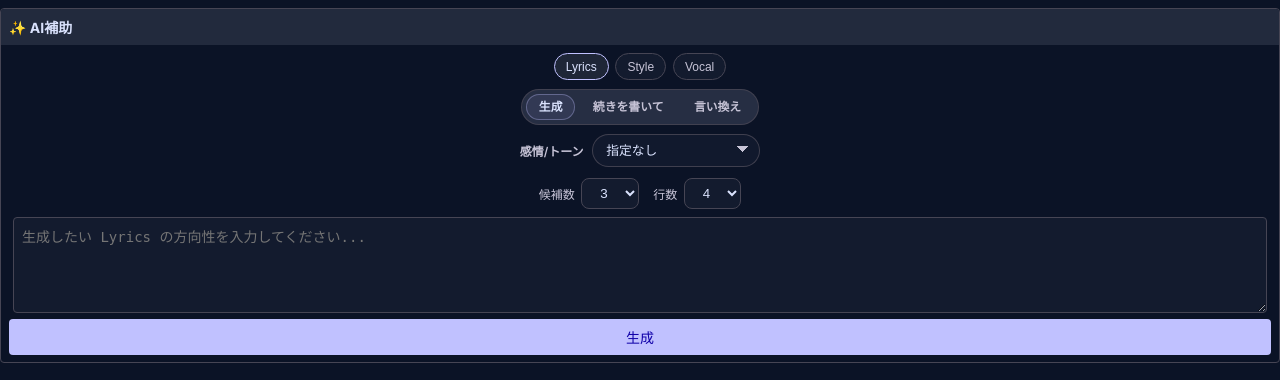
Test: LLMAssistPanel › mode tabs (lyrics only) › should change placeholder in continue mode
Click the tab "続きを書いて".
click(628, 107)  # box [580, 94, 676, 120]
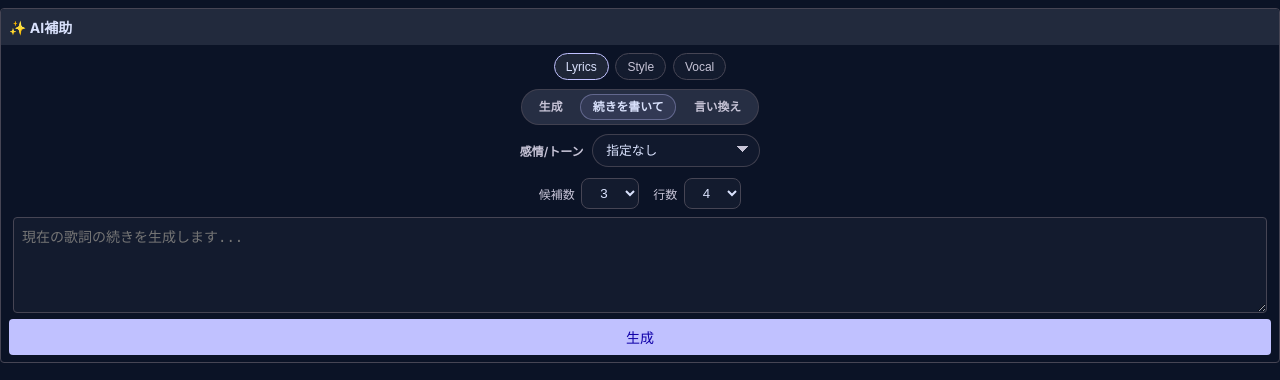
Expected: the text box with placeholder "現在の歌詞の続きを生成します..." is shown, [13, 217, 1267, 313]
